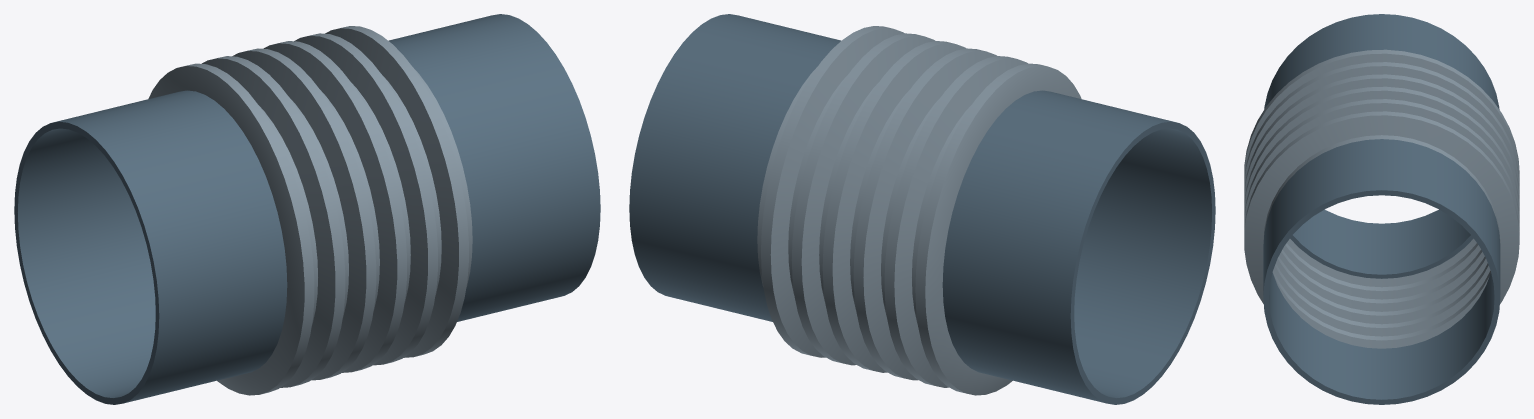
The model's file is silf-dn250-L480-D273.glb.
3 renders of one model, left to right at view 1: azimuth 30°, elevation 25°; view 2: azimuth 150°, elevation 25°; view 3: azimuth 270°, elevation 25°, orthographic. The views are drawn at different scales.
Parts seen in each view (by area): view 1: patrubok_1, prokladka_silfon_1, patrubok_2; view 2: patrubok_1, prokladka_silfon_1, patrubok_2; view 3: prokladka_silfon_1, patrubok_2, patrubok_1.
Boxes of the visible parts, x1,y1,x2,y2 form: patrubok_1: [14, 90, 287, 404]; prokladka_silfon_1: [148, 26, 472, 395]; patrubok_2: [388, 14, 600, 321]; patrubok_1: [942, 90, 1215, 404]; prokladka_silfon_1: [757, 26, 1081, 395]; patrubok_2: [629, 14, 840, 321]; prokladka_silfon_1: [1244, 49, 1519, 348]; patrubok_2: [1263, 139, 1500, 404]; patrubok_1: [1264, 14, 1499, 278].
Size of the model in its own units: 480 by 318 by 317.
